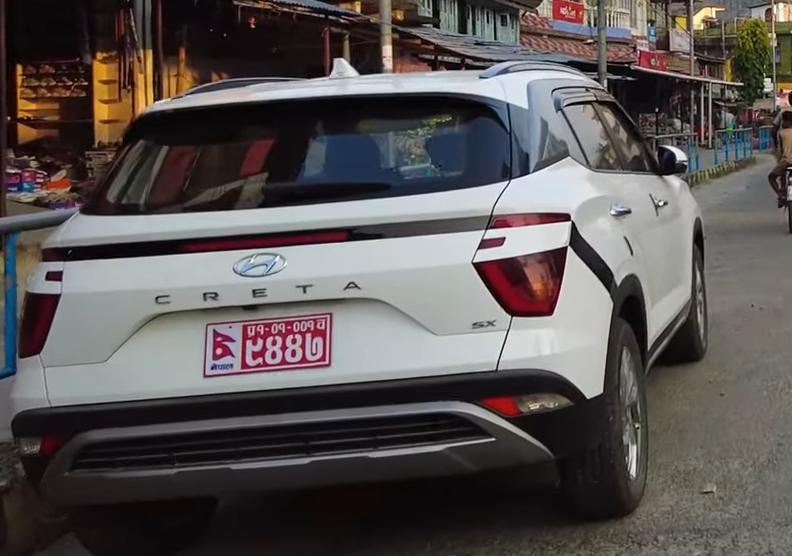car: (5, 56, 714, 544)
